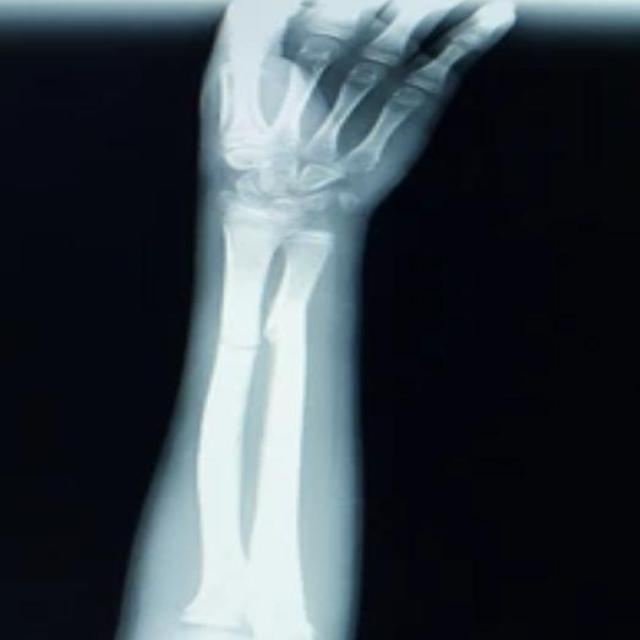bone: (196, 306, 324, 364)
